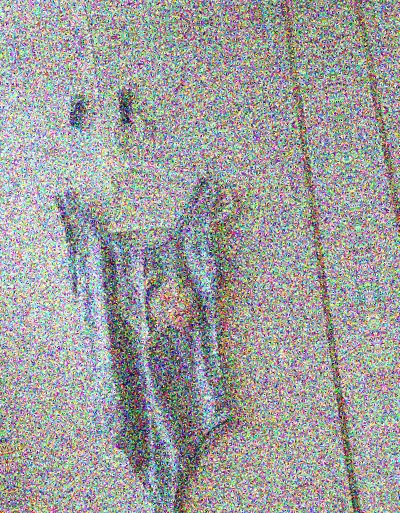Body: (23, 139, 270, 513)
